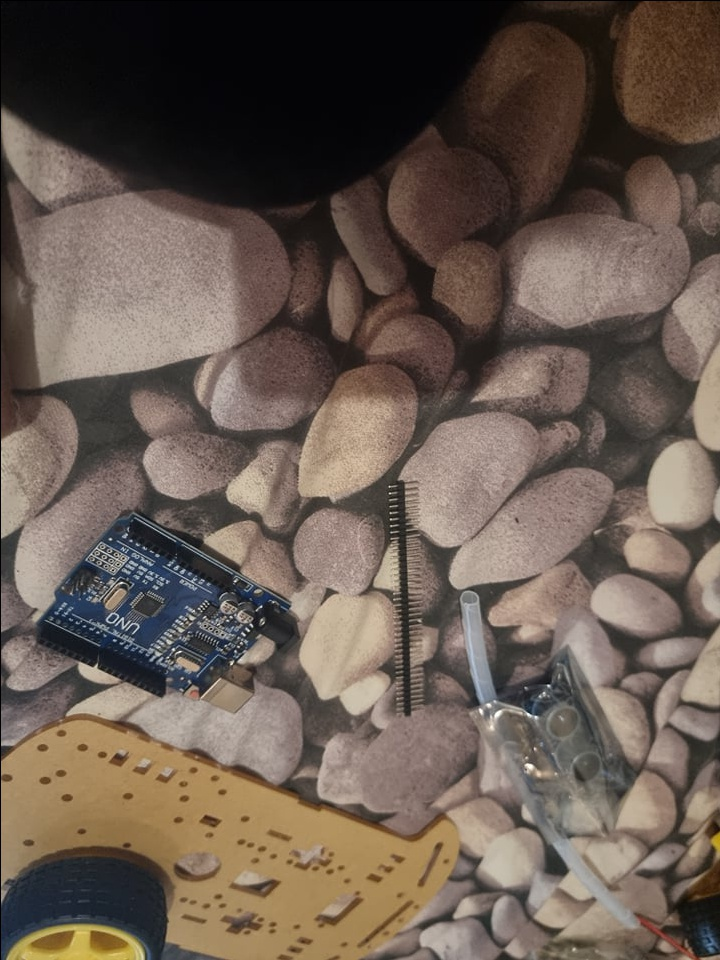SENSOR: (531, 685, 608, 786)
UNO R3: (32, 507, 306, 715)
